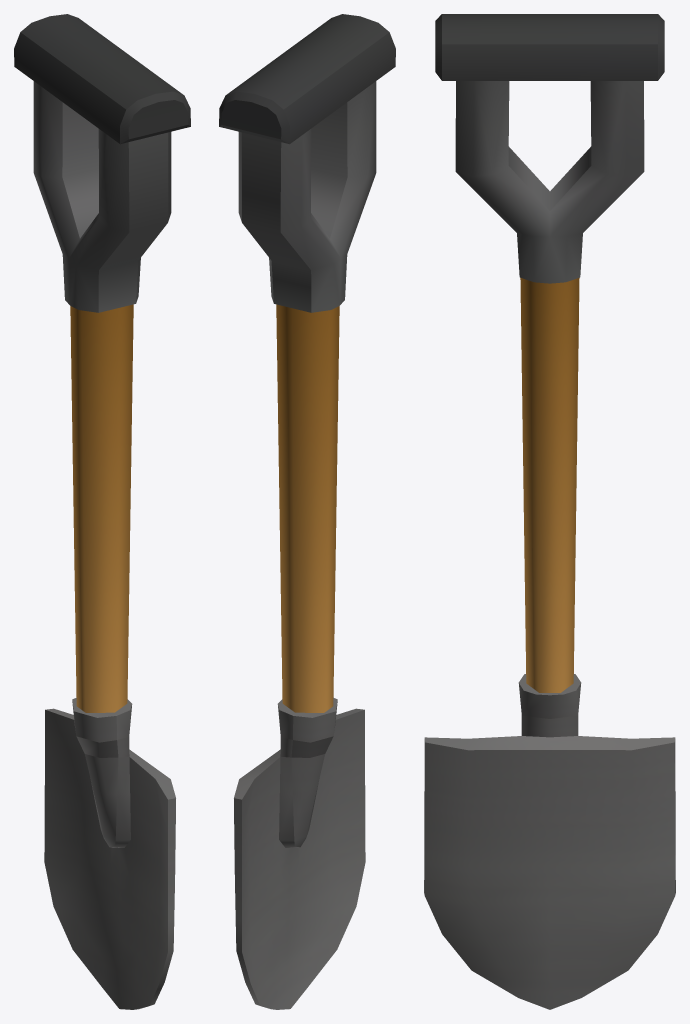
Rendered from Shovel_2.obj.
3 views of the same model, side by side, from view 1: azimuth 30°, elevation 25°; view 2: azimuth 150°, elevation 25°; view 3: azimuth 270°, elevation 25° (orthographic).
Parts seen in each view (by area): view 1: Shovel_2; view 2: Shovel_2; view 3: Shovel_2.
Part boxes in pixels (bbox=[...]): Shovel_2: bbox=[14, 14, 190, 1009]; Shovel_2: bbox=[219, 14, 395, 1009]; Shovel_2: bbox=[424, 14, 675, 1009].
Size of the model in its own units: 0.0542 by 0.7009 by 0.1635.
